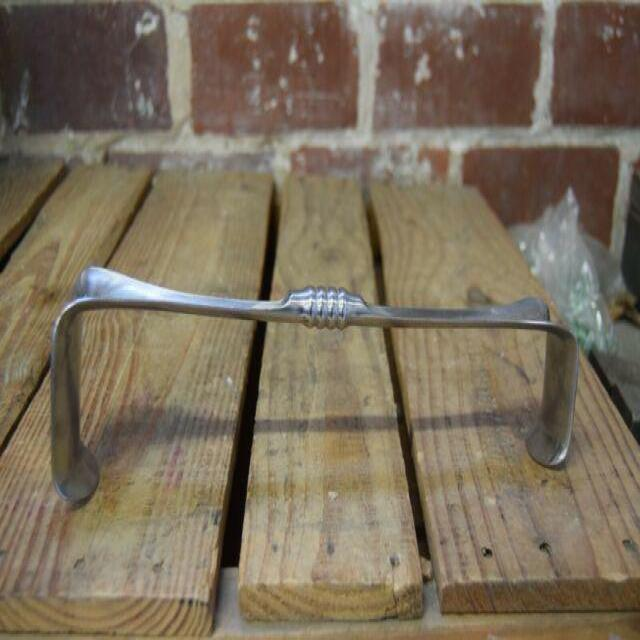Richardson: (43, 258, 588, 512)
